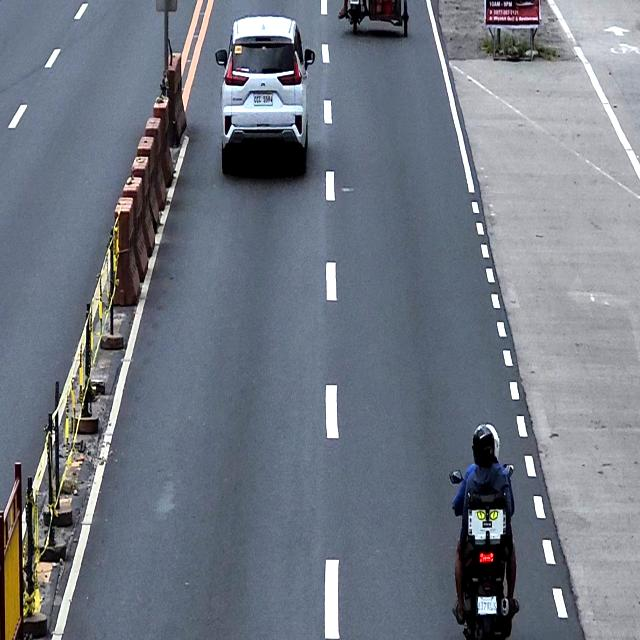Car: (215, 15, 315, 172)
License-Plate: (477, 595, 497, 615), (253, 90, 274, 108)
Motorcycle: (448, 465, 516, 638)
Tricycle: (344, 0, 410, 38)
